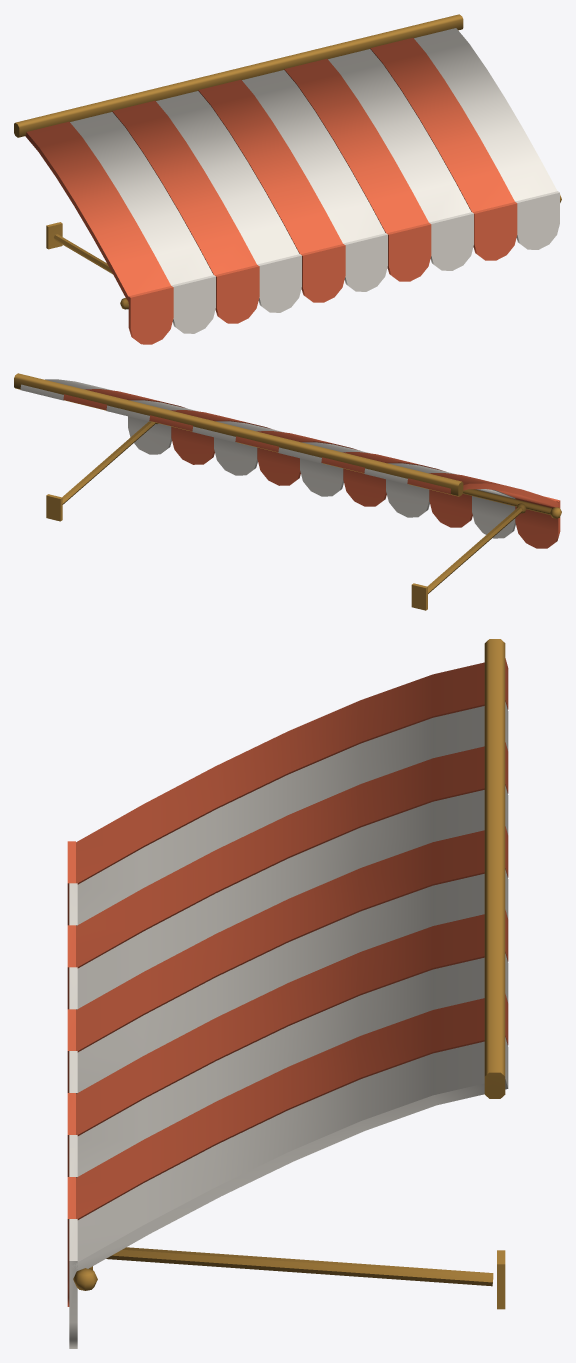
The model's file is awning_striped.fbx.
3 renders of one model, top to bottom at view 1: azimuth 30°, elevation 25°; view 2: azimuth 150°, elevation 25°; view 3: azimuth 270°, elevation 25°, orthographic. The views are drawn at different scales.
Visible parts, largest first — view 1: awning_striped; view 2: awning_striped; view 3: awning_striped.
Part boxes in pixels (x1,y1,x2,y2): awning_striped: [14, 14, 561, 344]; awning_striped: [14, 373, 561, 610]; awning_striped: [67, 639, 508, 1348].
Size of the model in its own units: 2.48 by 0.799 by 1.06.
